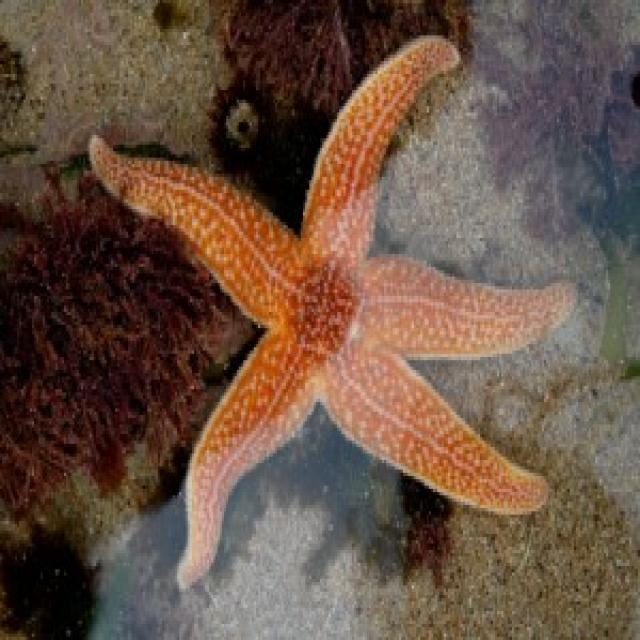Starfish: (83, 32, 583, 586)
